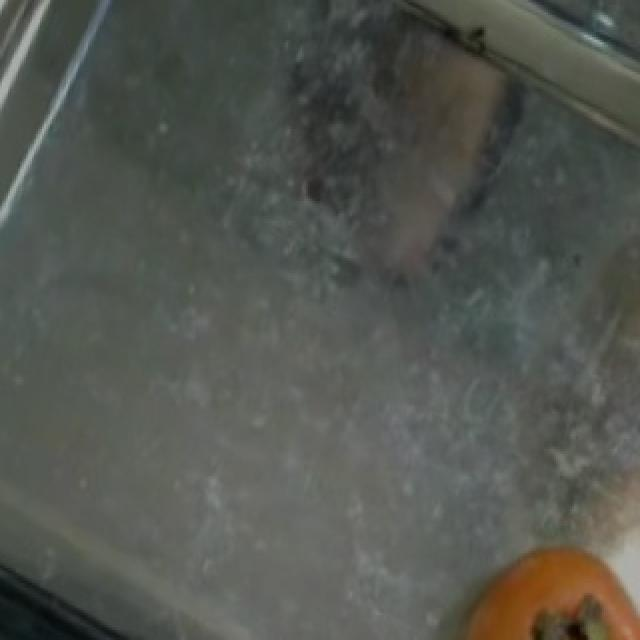Fruit: (444, 523, 640, 640)
